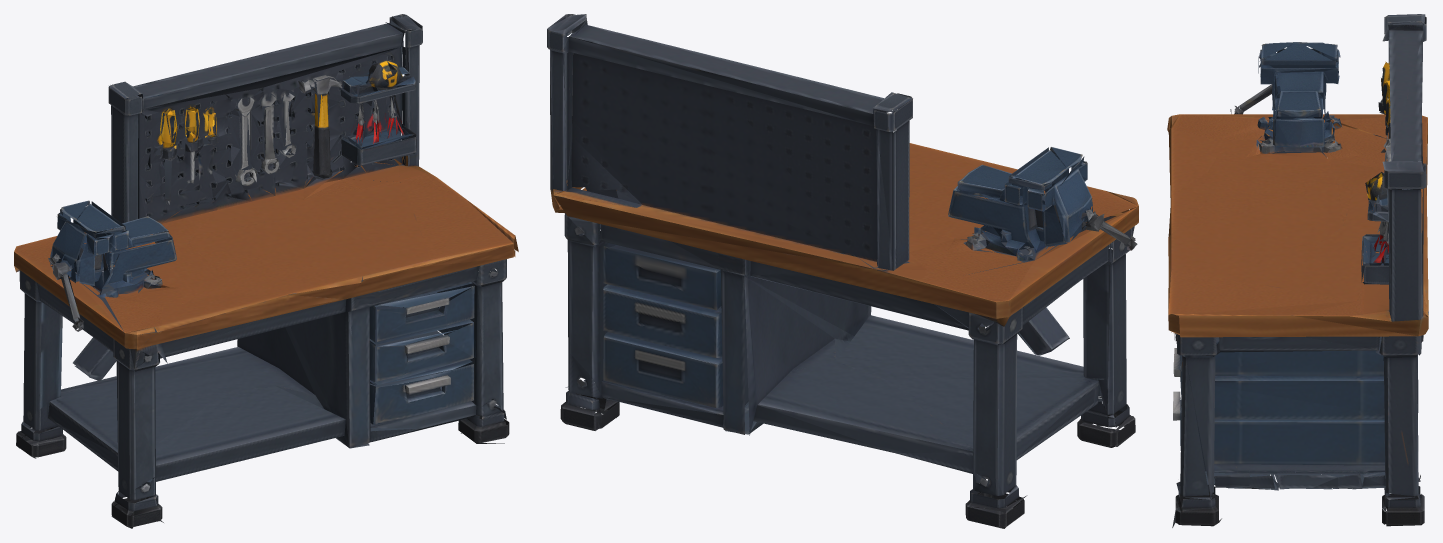
File: workbench_steel_lod1.glb
3 renders of one model, left to right at view 1: azimuth 30°, elevation 25°; view 2: azimuth 150°, elevation 25°; view 3: azimuth 270°, elevation 25°, orthographic. The views are drawn at different scales.
Visible parts, largest first — view 1: LOD1; view 2: LOD1; view 3: LOD1.
Boxes of the visible parts, left/top/right/bottom form: LOD1: left=14, top=14, right=518, bottom=528; LOD1: left=547, top=14, right=1138, bottom=528; LOD1: left=1167, top=14, right=1428, bottom=527.
Bounding box in the file's own units: 1.62 × 1.27 × 0.8137.
Materials: 1 (1 with a texture image).
